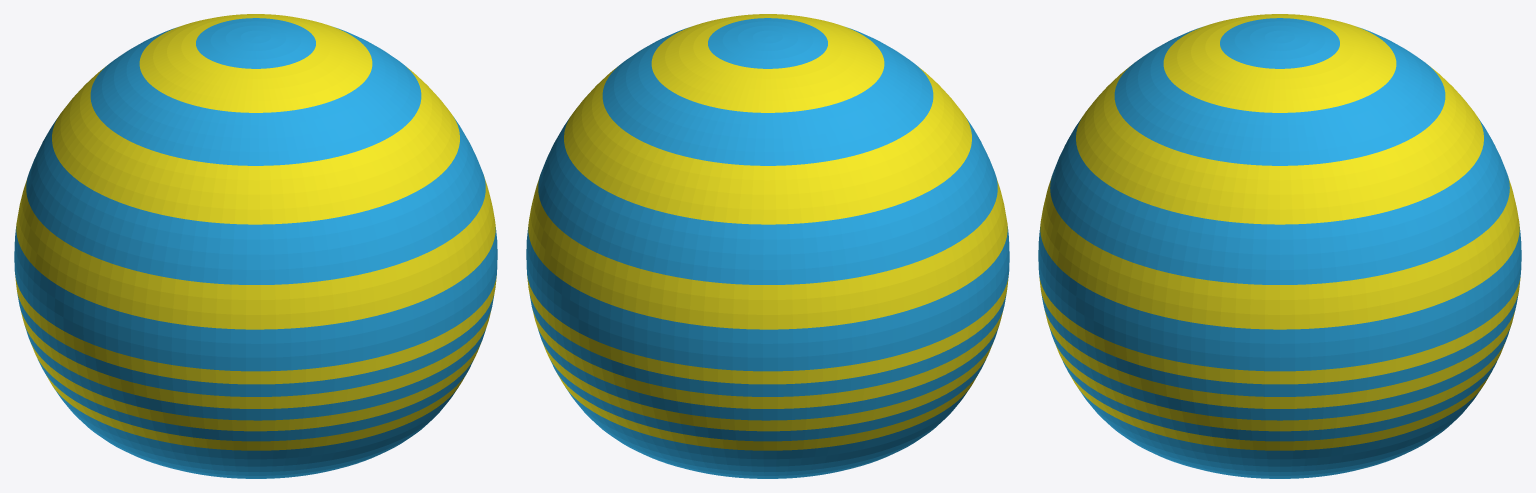
The model's file is Ball.fbx.
3 views of the same model, side by side, from view 1: azimuth 30°, elevation 25°; view 2: azimuth 150°, elevation 25°; view 3: azimuth 270°, elevation 25° (orthographic).
Visible parts, largest first — view 1: Sphere; view 2: Sphere; view 3: Sphere.
Boxes of the visible parts, left/top/right/bottom form: Sphere: left=14, top=14, right=497, bottom=478; Sphere: left=526, top=14, right=1009, bottom=478; Sphere: left=1038, top=14, right=1521, bottom=478.
Bounding box in the file's own units: 200 × 179 × 200.
